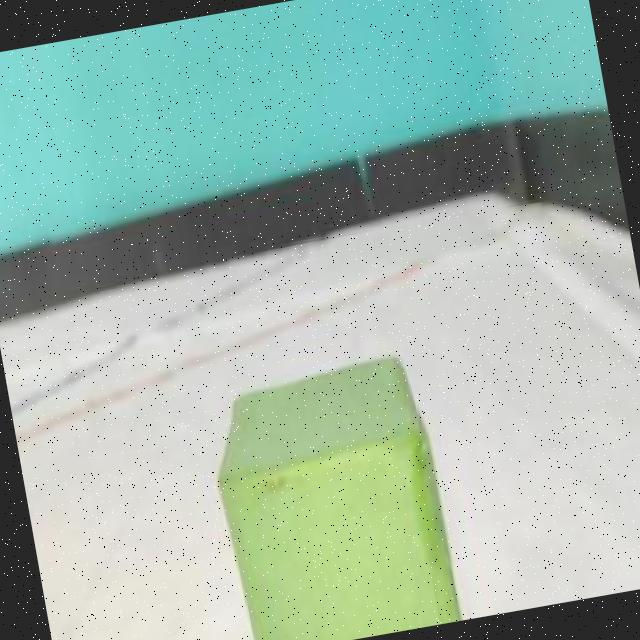greenbox: (193, 345, 472, 640)
